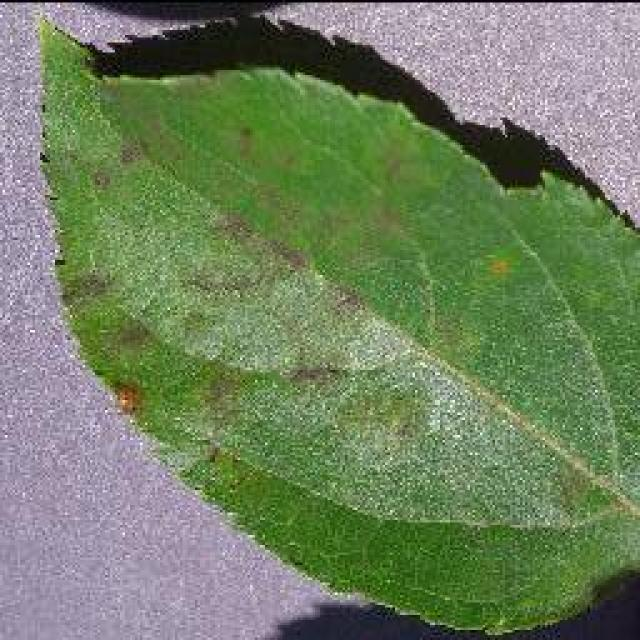apple scab disease: (32, 7, 638, 635)
